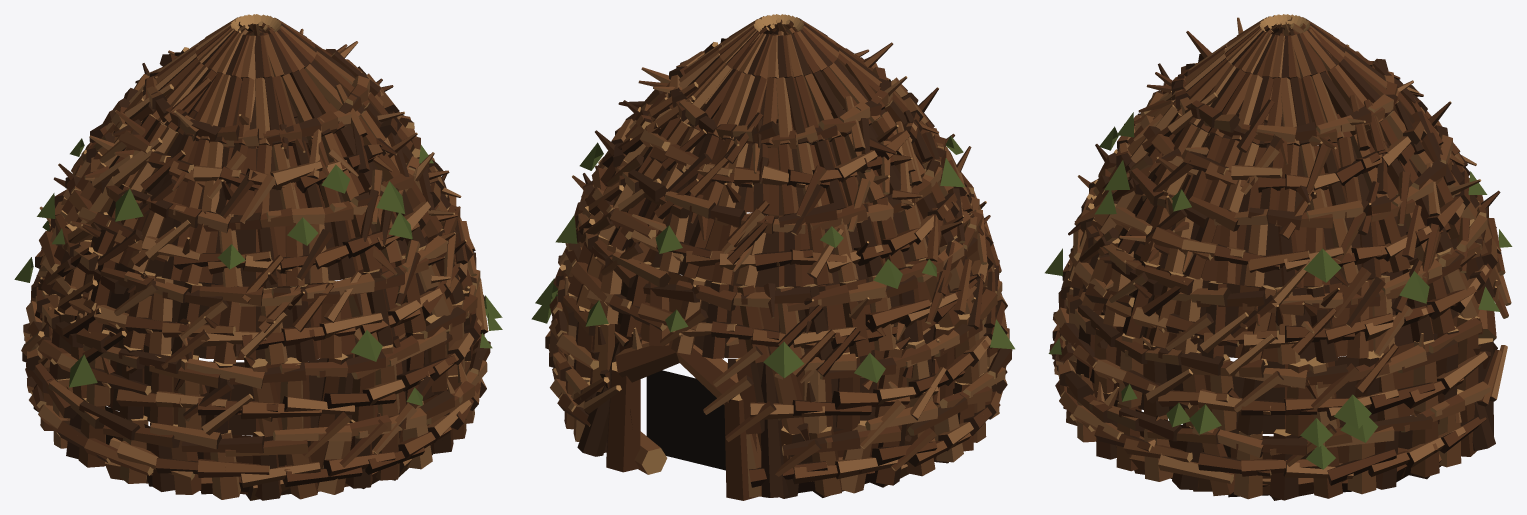
File: beaver_house.obj
3 views of the same model, side by side, from view 1: azimuth 30°, elevation 25°; view 2: azimuth 150°, elevation 25°; view 3: azimuth 270°, elevation 25° (orthographic).
Parts seen in each view (by area): view 1: beaver_house; view 2: beaver_house; view 3: beaver_house.
Boxes of the visible parts, left/top/right/bottom form: beaver_house: left=14, top=14, right=502, bottom=500; beaver_house: left=531, top=14, right=1014, bottom=500; beaver_house: left=1045, top=14, right=1512, bottom=500.
Bounding box in the file's own units: 3.26 × 2.87 × 3.1.
